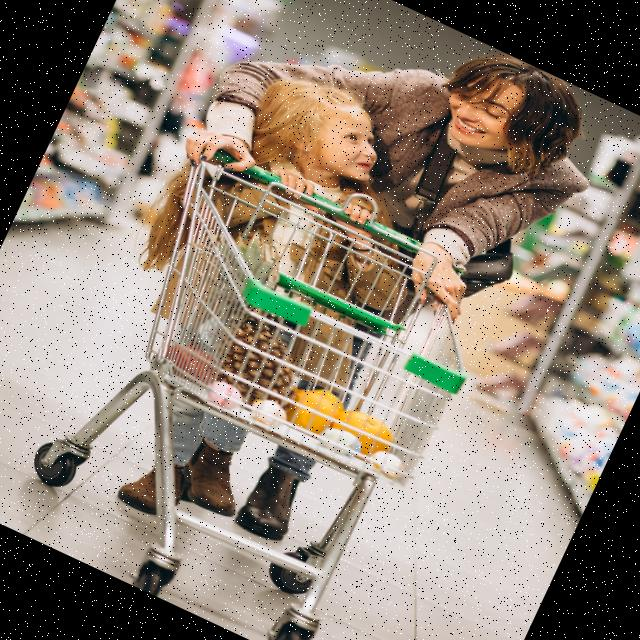Person: (52, 0, 621, 598), (38, 42, 469, 573)
